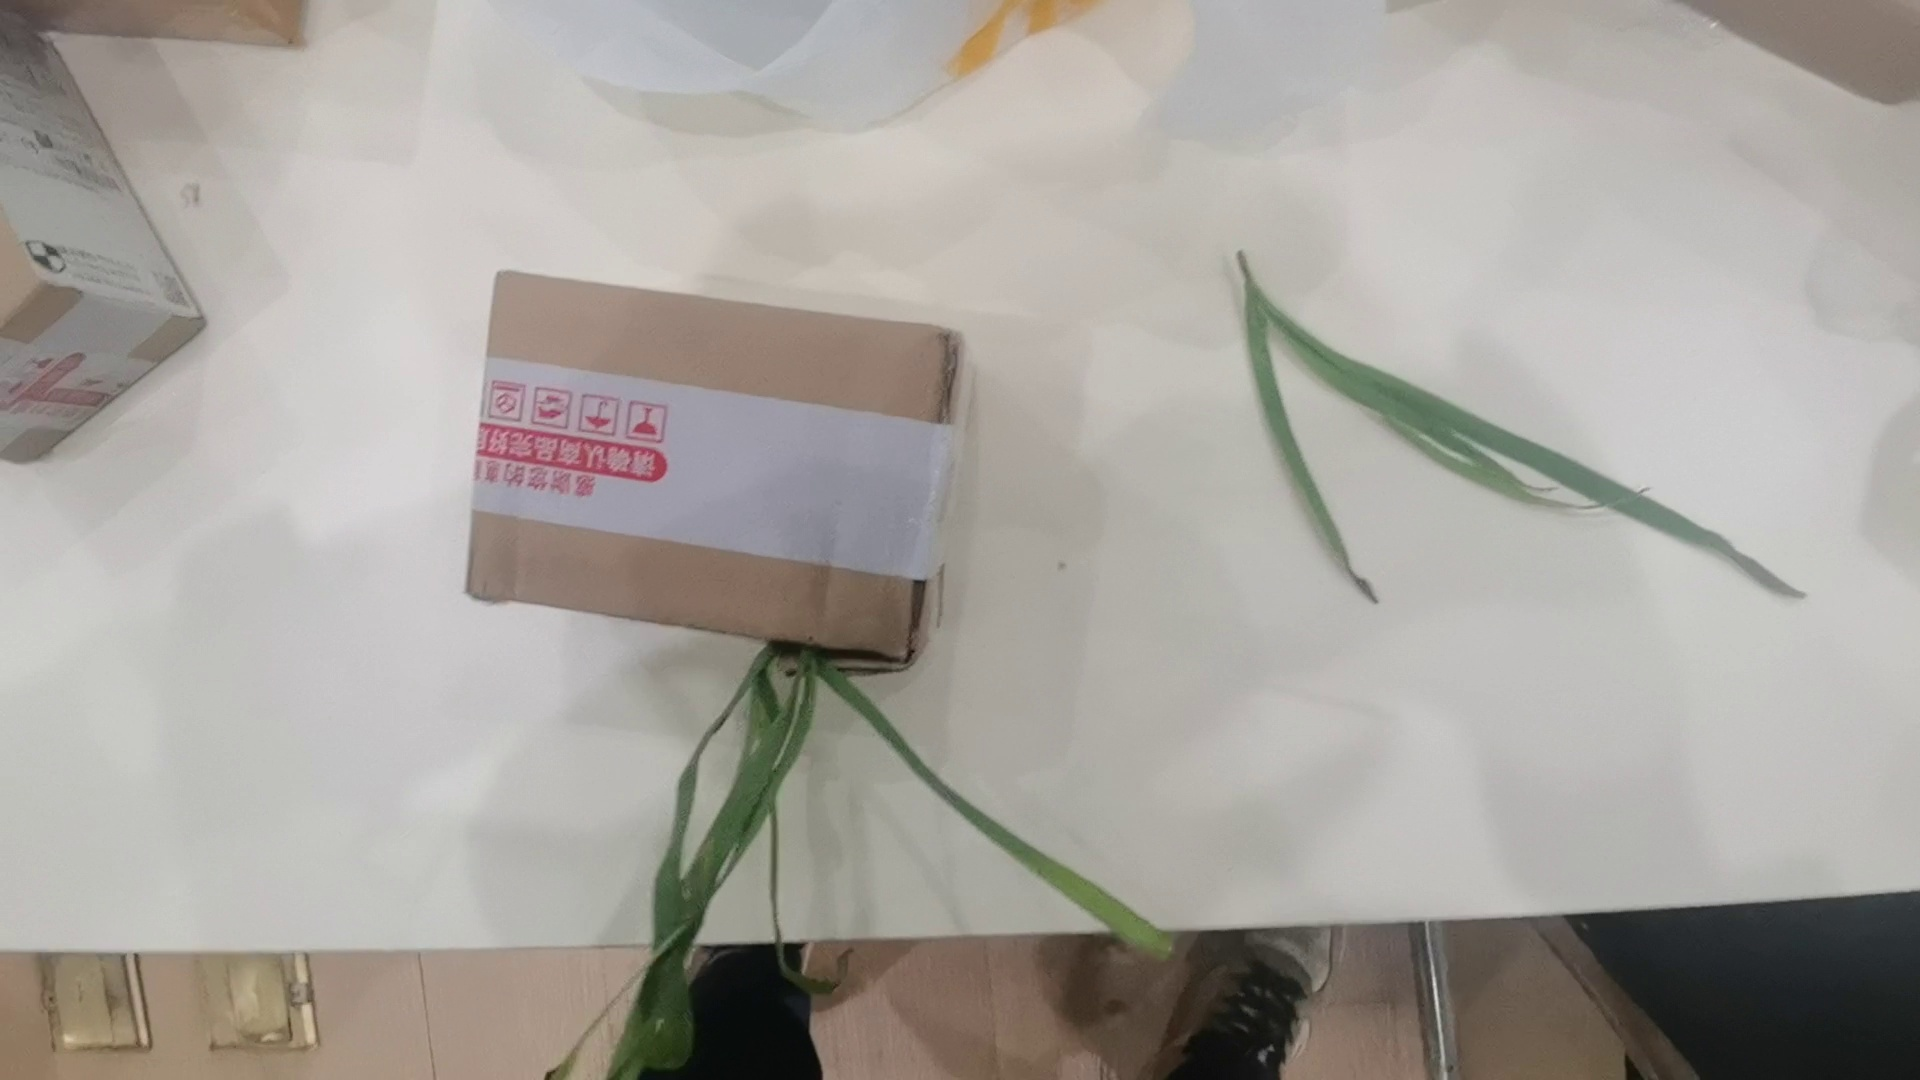chives: (459, 645, 1265, 1080), (1218, 249, 1817, 609)
